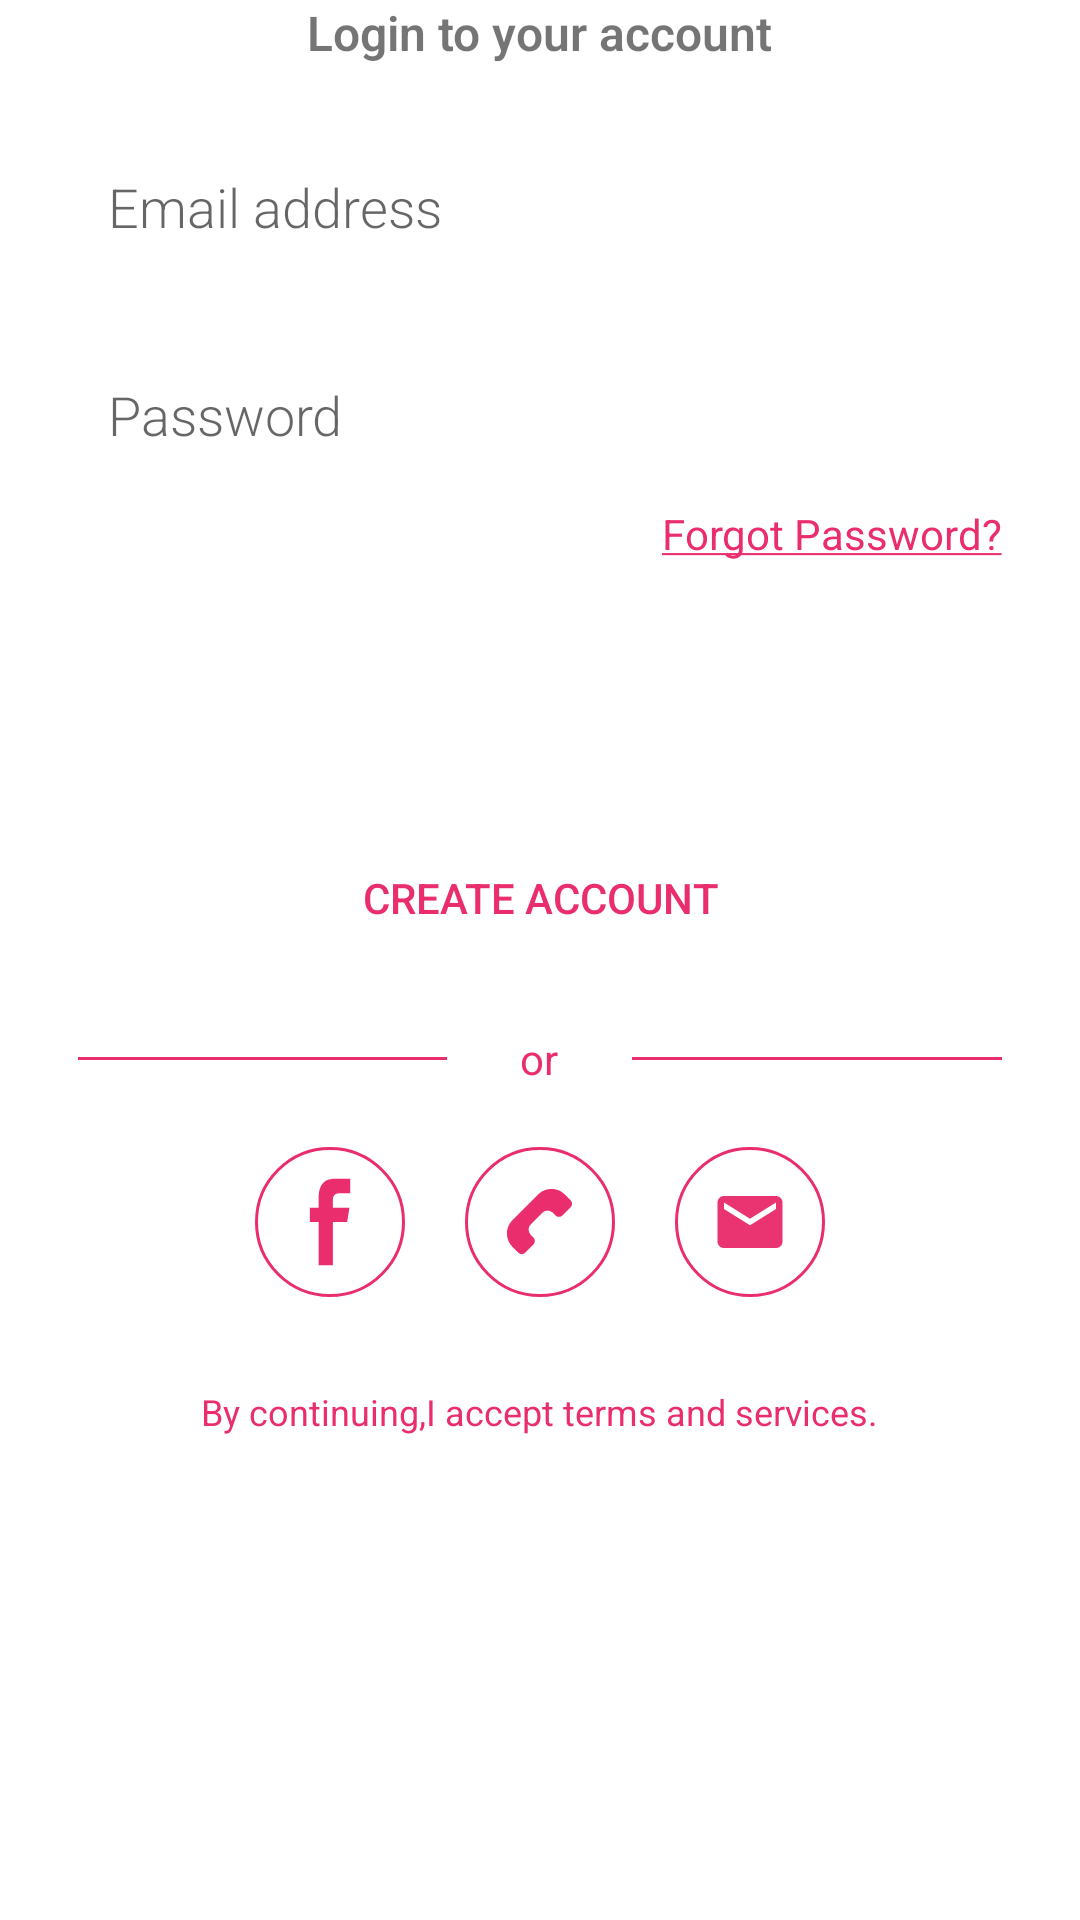

Locate icon controls on the screen. Image size 1080*1920, boxes as BBox(x1, y1, x2, y2).
email: BBox(675, 1147, 825, 1297)
otp: BBox(465, 1147, 615, 1297)
